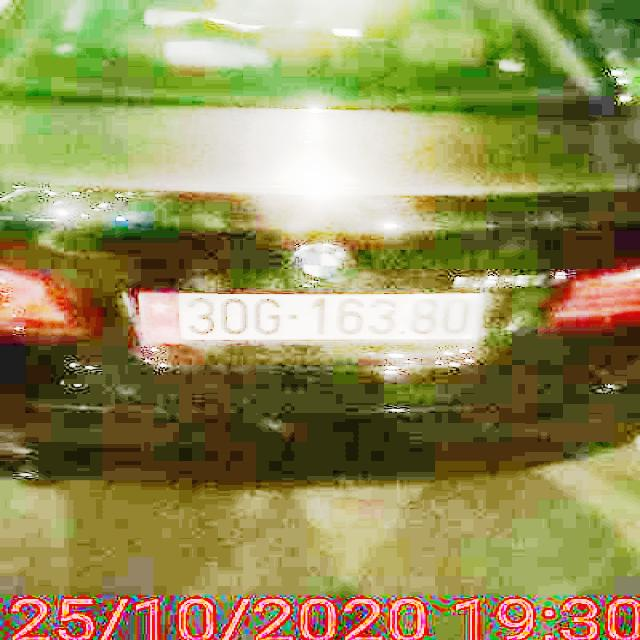license_plate: (180, 294, 482, 342)
